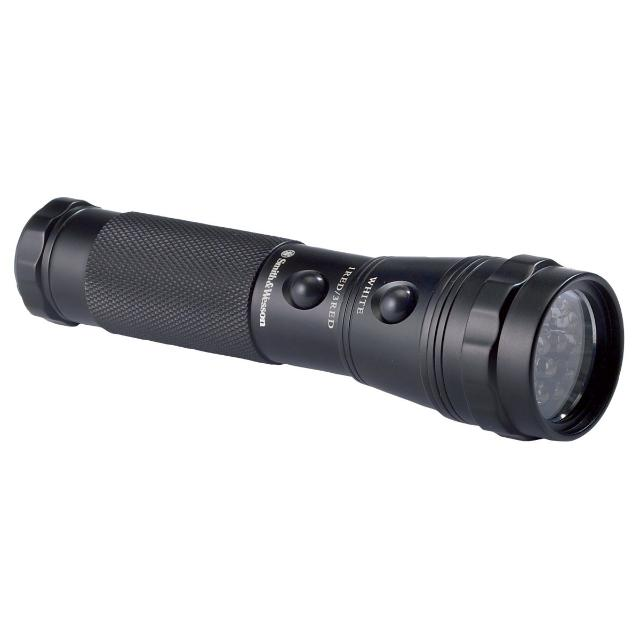Flashlight: (10, 190, 630, 450)
